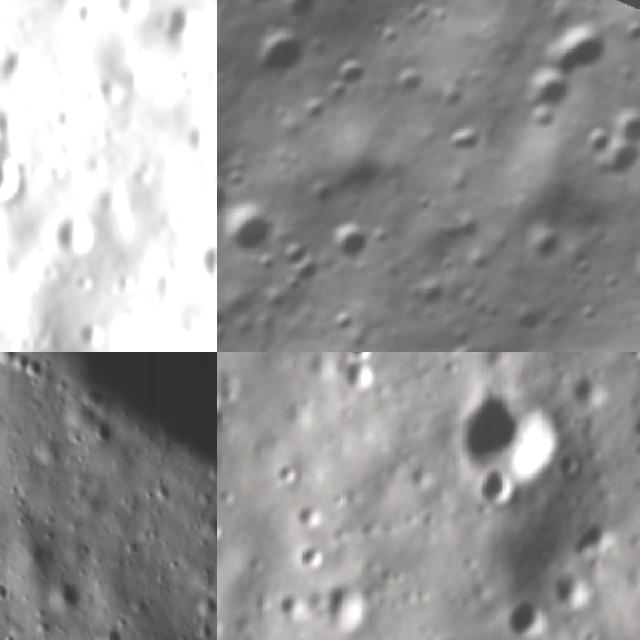crater: (456, 389, 567, 484), (217, 192, 286, 266), (245, 18, 314, 92), (540, 17, 611, 88), (505, 211, 574, 280), (512, 59, 579, 130), (438, 110, 496, 170), (318, 574, 372, 638), (0, 134, 40, 220), (50, 205, 108, 263), (322, 212, 376, 268), (544, 564, 596, 614), (389, 58, 438, 111), (326, 47, 379, 95), (499, 592, 551, 640), (601, 98, 640, 161), (570, 511, 616, 562), (159, 0, 203, 50), (336, 358, 387, 400), (185, 226, 217, 292), (471, 461, 520, 504), (576, 118, 618, 162), (270, 235, 312, 279), (292, 538, 330, 583), (321, 304, 363, 344), (75, 313, 115, 352), (294, 495, 331, 535), (572, 370, 608, 411), (617, 241, 640, 301), (272, 0, 323, 26), (271, 454, 306, 491), (278, 589, 313, 626), (217, 162, 233, 240), (615, 8, 640, 53), (441, 331, 487, 352), (334, 352, 382, 367), (218, 484, 239, 509), (217, 514, 229, 545), (436, 629, 467, 640)
